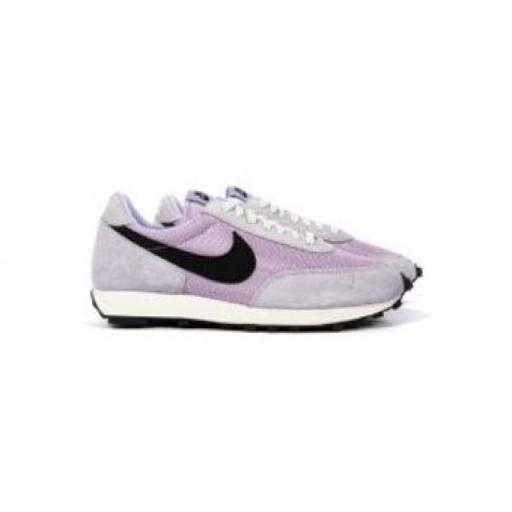Nike: (106, 220, 258, 289)
